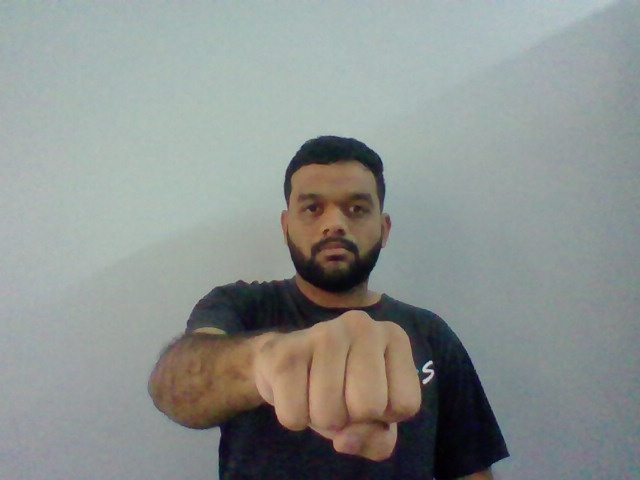Yes: (268, 308, 422, 464)
